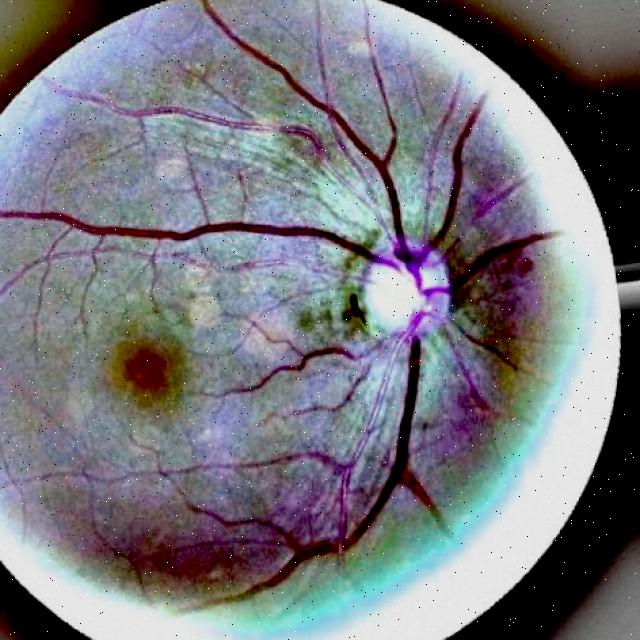Macula: (101, 313, 207, 428)
Nerves: (220, 365, 430, 609), (207, 19, 410, 226), (13, 207, 364, 254), (439, 114, 473, 240), (473, 237, 540, 271)
Optic Disk: (349, 232, 462, 350)
